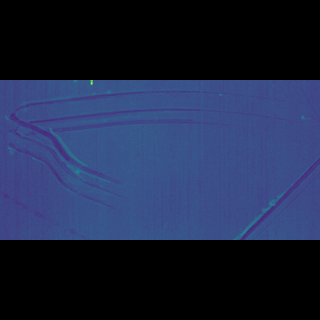Loch: (6, 123, 309, 187), (225, 156, 318, 200), (1, 173, 94, 208)
